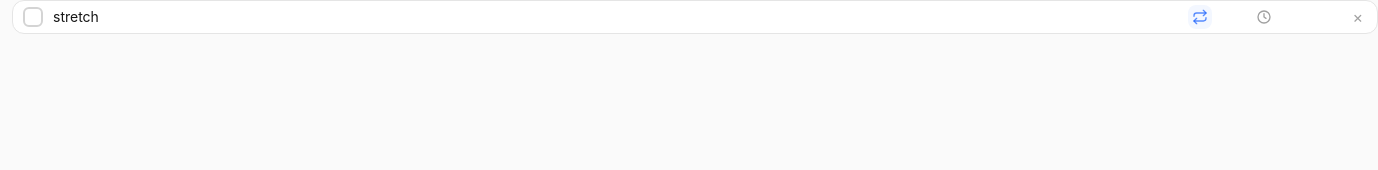
it: the repeat rule on a task row › spells the rule out under its button once the row is clicked into, the button staying an icon (RPT-17, UI-17)
Click the list item: click(695, 17) top-left (12, 0), bottom-right (1377, 34)
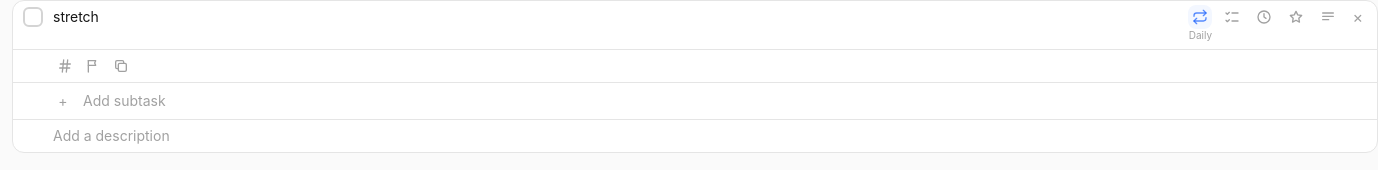
Result: the text "Daily" is shown at top-left (1188, 29), bottom-right (1212, 41)
